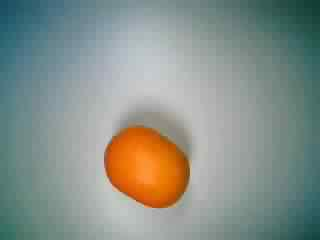orange: (100, 125, 196, 209)
